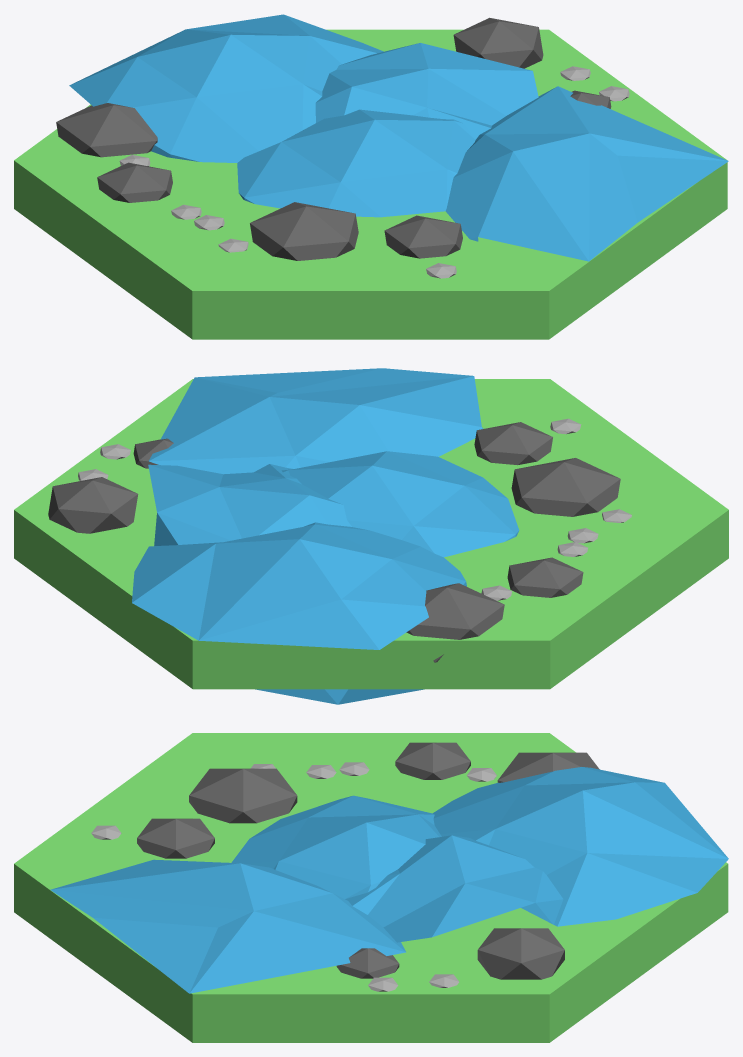
File: river2.glb
The picture shows the model from 3 angles, top to bottom: view 1: azimuth 30°, elevation 25°; view 2: azimuth 150°, elevation 25°; view 3: azimuth 270°, elevation 25°; orthographic projection.
Parts seen in each view (by area): view 1: Cylinder, Icosphere.014, Icosphere.015, Icosphere.013, Icosphere.012, Icosphere.010, Icosphere.009, Icosphere.011; view 2: Cylinder, Icosphere.014, Icosphere.015, Icosphere.013, Icosphere.010, Icosphere.012, Icosphere.009, Icosphere.011, Icosphere.008; view 3: Cylinder, Icosphere.015, Icosphere.014, Icosphere.013, Icosphere.010, Icosphere.009, Icosphere.011, Icosphere.012, Icosphere.008.
Part boxes in pixels (<box>): Cylinder: <box>14,29,727,339</box>; Icosphere.014: <box>69,14,475,217</box>; Icosphere.015: <box>315,43,728,261</box>; Icosphere.013: <box>250,202,358,260</box>; Icosphere.012: <box>56,103,157,157</box>; Icosphere.010: <box>453,17,543,68</box>; Icosphere.009: <box>384,215,462,258</box>; Icosphere.011: <box>97,162,172,202</box>; Cylinder: <box>14,379,728,689</box>; Icosphere.014: <box>132,451,519,649</box>; Icosphere.015: <box>148,368,483,704</box>; Icosphere.013: <box>511,458,620,516</box>; Icosphere.010: <box>48,477,138,533</box>; Icosphere.012: <box>406,583,504,662</box>; Icosphere.009: <box>474,422,552,465</box>; Icosphere.011: <box>507,557,583,597</box>; Icosphere.008: <box>133,438,173,468</box>; Cylinder: <box>14,733,728,1042</box>; Icosphere.015: <box>50,835,563,993</box>; Icosphere.014: <box>231,767,728,926</box>; Icosphere.013: <box>189,768,297,823</box>; Icosphere.010: <box>477,928,564,979</box>; Icosphere.009: <box>137,818,214,858</box>; Icosphere.011: <box>395,742,470,779</box>; Icosphere.012: <box>497,752,599,782</box>; Icosphere.008: <box>336,948,399,978</box>.
Size of the model in its own units: 3.46 by 1.05 by 4.
